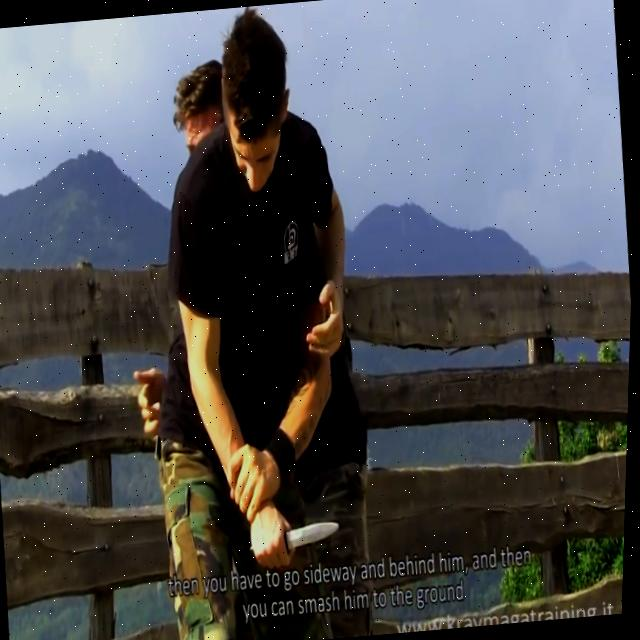knife: (287, 517, 344, 553)
